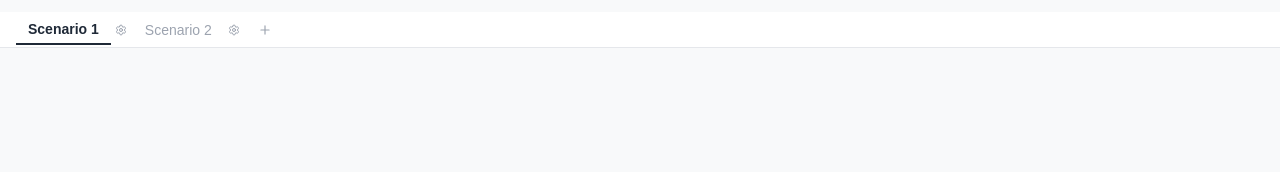
it: ScenarioTabBar › delete button is enabled when 2+ scenarios
Open gear menu on first tab
Click the button named "options for" at (121, 30), box left=113, top=22, right=129, bottom=38
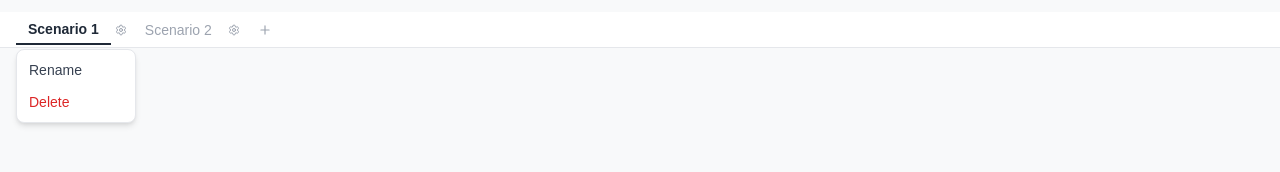
Check: the button "Delete" is enabled, box left=17, top=86, right=135, bottom=118
